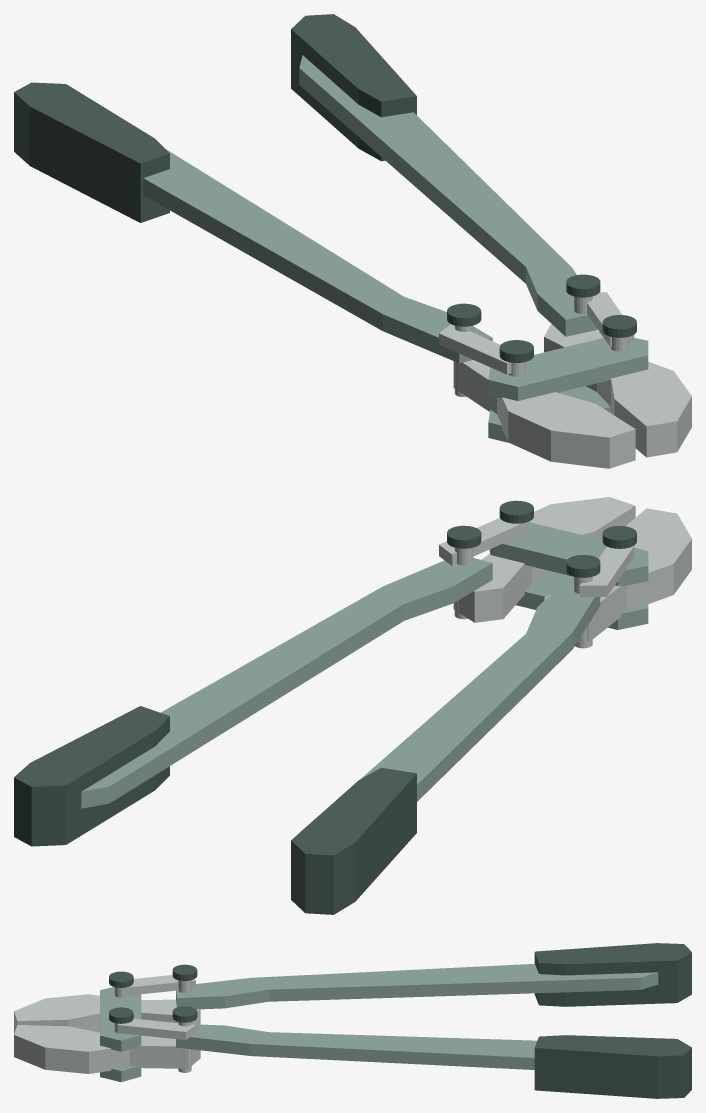
The picture shows the model from 3 angles, top to bottom: view 1: azimuth 30°, elevation 25°; view 2: azimuth 150°, elevation 25°; view 3: azimuth 270°, elevation 25°; orthographic projection. The views are drawn at different scales.
Visible parts, largest first — view 1: WholeIndependentLongLever_1, WholeIndependentLongLever_-1, WholeClosedTerminalOvergrip_-1, WholeSeparateBluntJawLink_-1, WholeClosedTerminalOvergrip_1, WholeSeparateBluntJawLink_1, WholeUpperJawFulcrumBridge, WholeShortShoulderLink_-1, WholeLowerJawFulcrumBridge, WholeShortShoulderLink_1, WholeProudPivotCap_(1, 1), WholeProudPivotCap_(-1, 1) (+2 smaller); view 2: WholeIndependentLongLever_1, WholeIndependentLongLever_-1, WholeClosedTerminalOvergrip_-1, WholeClosedTerminalOvergrip_1, WholeSeparateBluntJawLink_1, WholeSeparateBluntJawLink_-1, WholeUpperJawFulcrumBridge, WholeLowerJawFulcrumBridge, WholeShortShoulderLink_-1, WholeShortShoulderLink_1, WholeProudPivotCap_(1, 0), WholeProudPivotCap_(1, 1) (+2 smaller); view 3: WholeIndependentLongLever_-1, WholeIndependentLongLever_1, WholeClosedTerminalOvergrip_1, WholeClosedTerminalOvergrip_-1, WholeSeparateBluntJawLink_1, WholeSeparateBluntJawLink_-1, WholeUpperJawFulcrumBridge, WholeShortShoulderLink_1, WholeShortShoulderLink_-1, WholeLowerJawFulcrumBridge, WholeProudPivotCap_(1, 1), WholeProudPivotCap_(-1, 1) (+2 smaller).
Part boxes in pixels (x1,y1,x2,y2): WholeIndependentLongLever_1: [299, 55, 597, 336]; WholeIndependentLongLever_-1: [143, 149, 492, 363]; WholeClosedTerminalOvergrip_-1: [14, 82, 169, 222]; WholeSeparateBluntJawLink_-1: [453, 360, 635, 468]; WholeClosedTerminalOvergrip_1: [291, 14, 416, 161]; WholeSeparateBluntJawLink_1: [544, 324, 691, 457]; WholeUpperJawFulcrumBridge: [488, 338, 648, 400]; WholeShortShoulderLink_-1: [439, 324, 526, 374]; WholeLowerJawFulcrumBridge: [488, 386, 611, 442]; WholeShortShoulderLink_1: [587, 292, 634, 346]; WholeProudPivotCap_(1, 1): [566, 274, 600, 297]; WholeProudPivotCap_(-1, 1): [447, 303, 481, 326]; WholeIndependentLongLever_1: [81, 558, 492, 808]; WholeIndependentLongLever_-1: [299, 581, 600, 832]; WholeClosedTerminalOvergrip_-1: [291, 767, 416, 914]; WholeClosedTerminalOvergrip_1: [14, 706, 169, 846]; WholeSeparateBluntJawLink_1: [453, 497, 635, 622]; WholeSeparateBluntJawLink_-1: [544, 508, 691, 642]; WholeUpperJawFulcrumBridge: [489, 522, 648, 586]; WholeLowerJawFulcrumBridge: [516, 572, 648, 629]; WholeShortShoulderLink_-1: [579, 546, 634, 597]; WholeShortShoulderLink_1: [439, 518, 526, 565]; WholeProudPivotCap_(1, 0): [499, 500, 533, 523]; WholeProudPivotCap_(1, 1): [447, 525, 481, 548]; WholeIndependentLongLever_-1: [176, 963, 658, 1009]; WholeIndependentLongLever_1: [176, 1024, 536, 1069]; WholeClosedTerminalOvergrip_1: [534, 1035, 691, 1098]; WholeClosedTerminalOvergrip_-1: [534, 943, 691, 1006]; WholeSeparateBluntJawLink_1: [14, 1025, 200, 1073]; WholeSeparateBluntJawLink_-1: [14, 994, 200, 1033]; WholeUpperJawFulcrumBridge: [100, 987, 141, 1051]; WholeShortShoulderLink_1: [118, 1018, 195, 1039]; WholeShortShoulderLink_-1: [121, 975, 195, 996]; WholeLowerJawFulcrumBridge: [100, 1066, 141, 1082]; WholeProudPivotCap_(1, 1): [172, 1006, 197, 1022]; WholeProudPivotCap_(-1, 1): [172, 964, 197, 980].
Size of the model in its own units: 0.24 by 0.068 by 0.607.
